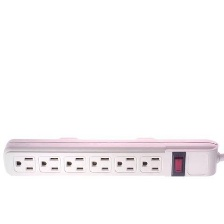three_eye_plug: (0, 136, 220, 179)
